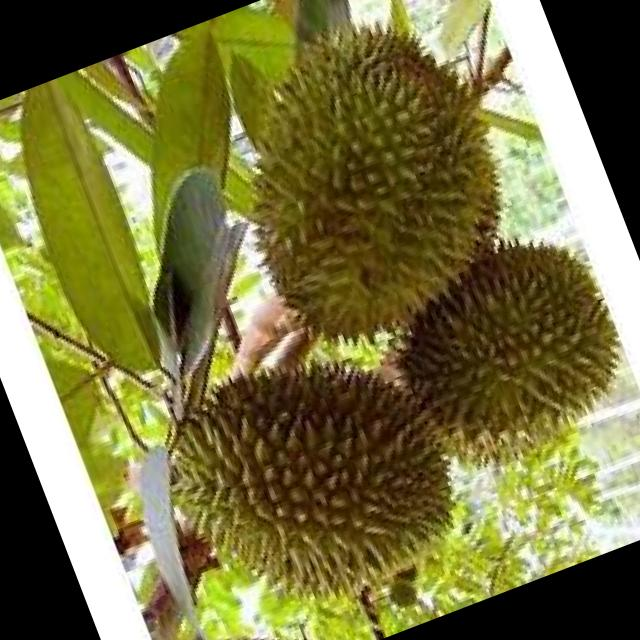fruit: (131, 0, 578, 413), (113, 284, 518, 640), (346, 198, 640, 506)
